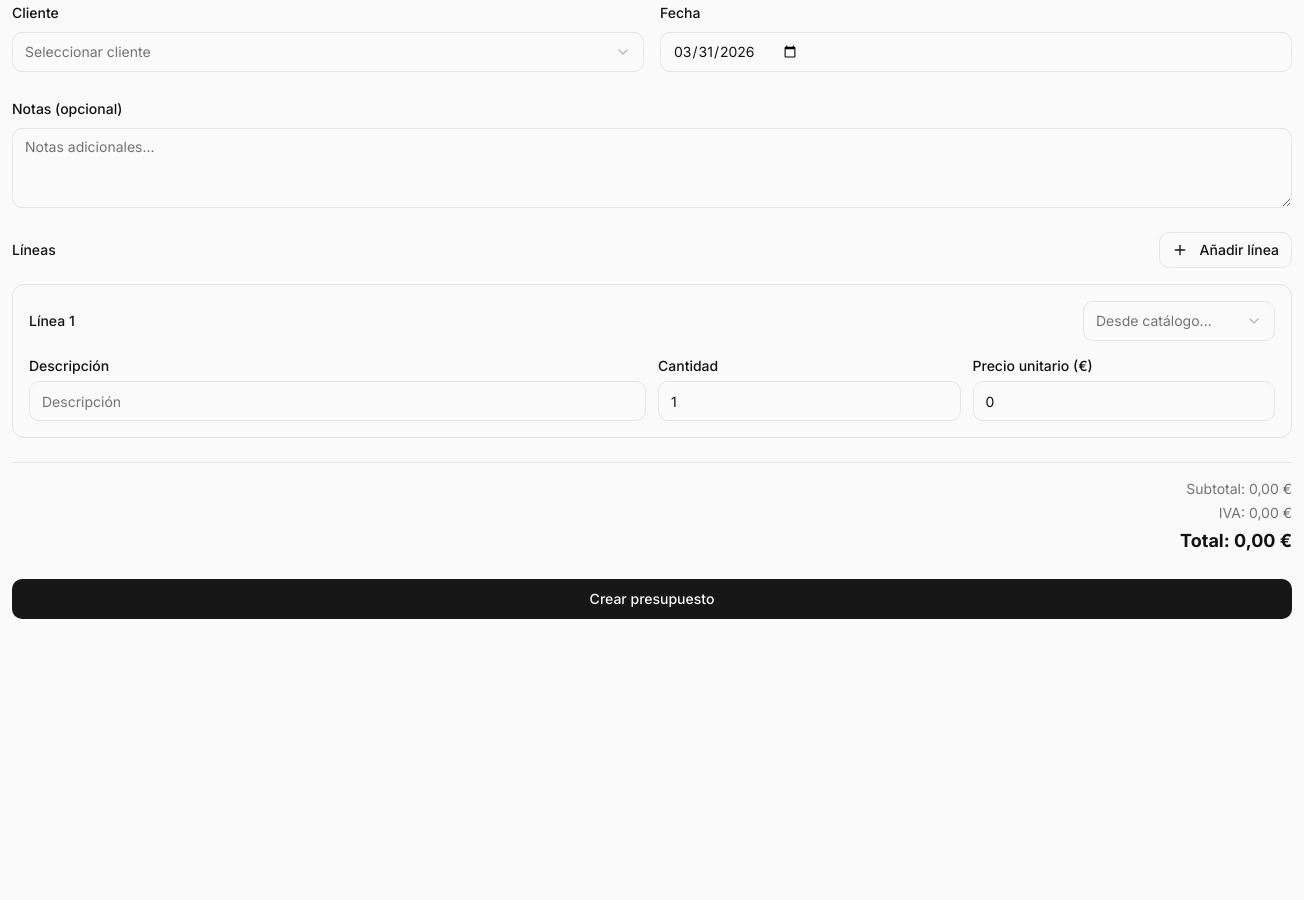
Test: QuoteForm › shows validation errors when submitting with empty required fields
Click the button "Crear presupuesto" at (652,599), box left=12, top=579, right=1292, bottom=619
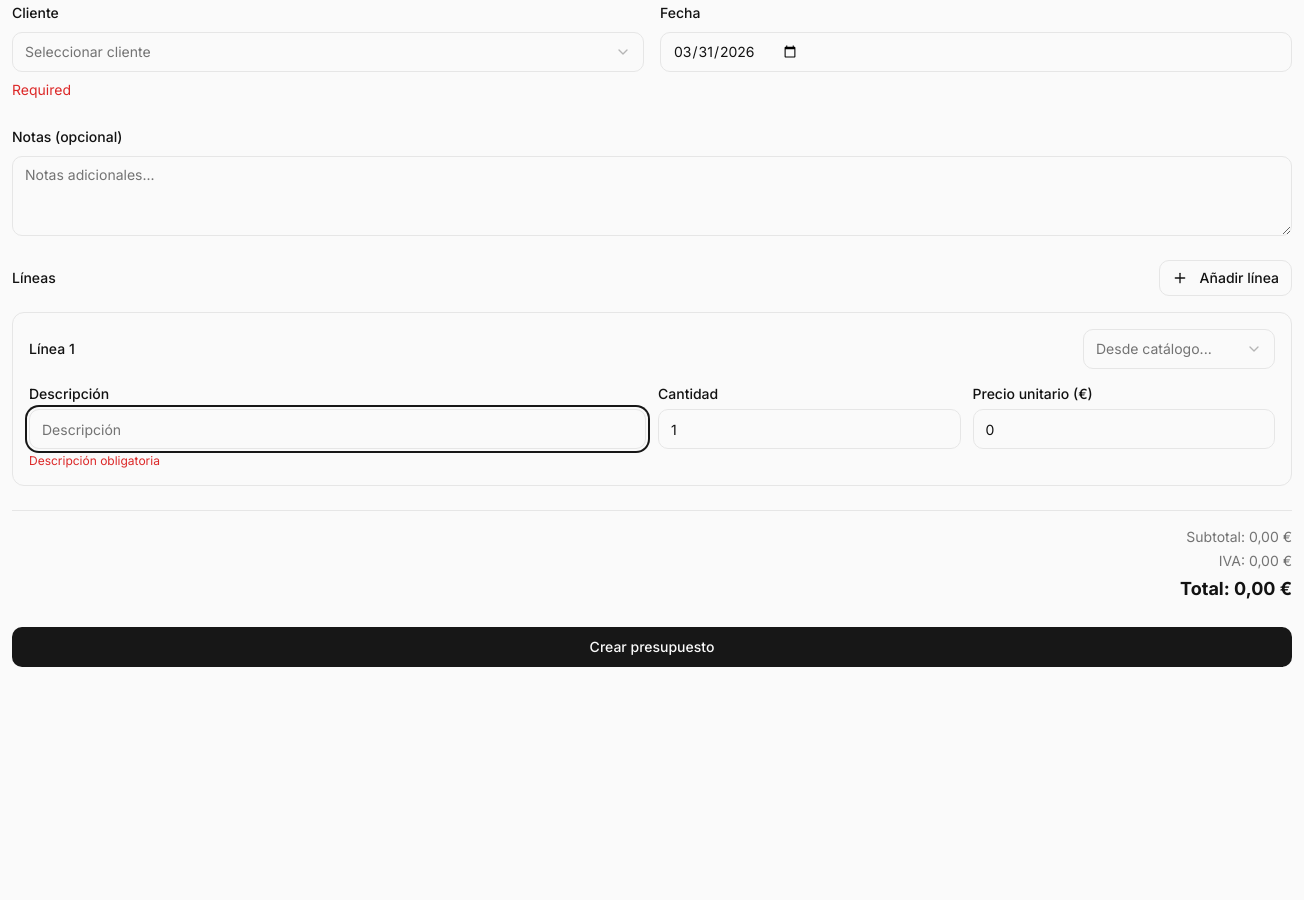
Check: the text "Descripción obligatoria" is shown, box left=29, top=453, right=160, bottom=468
